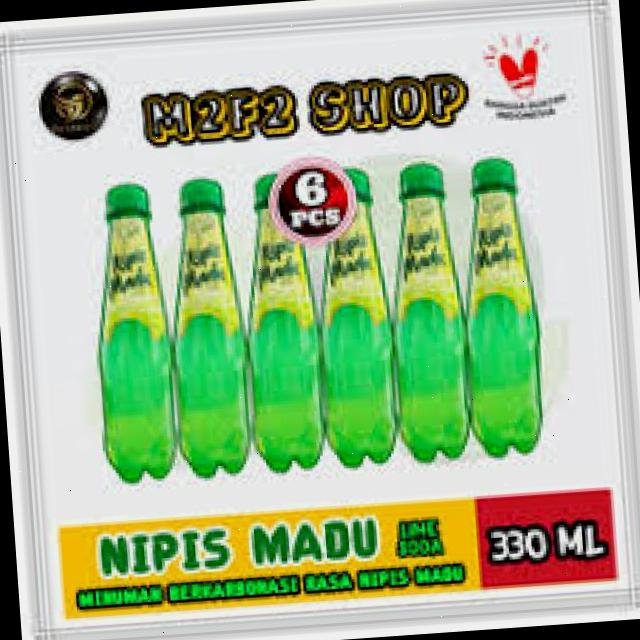bottle: (71, 172, 200, 510), (368, 145, 485, 462), (304, 163, 417, 479), (448, 148, 558, 463), (152, 156, 255, 489), (234, 156, 332, 480)
cap: (172, 172, 230, 222), (101, 176, 156, 222), (396, 154, 446, 204), (468, 154, 520, 194)
